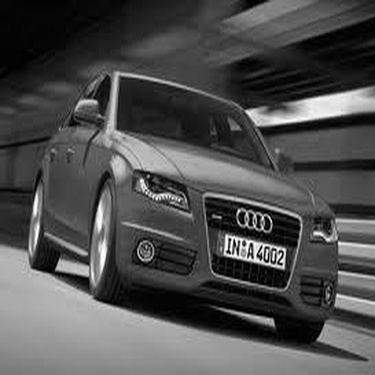car: (19, 60, 341, 349)
